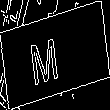M_N: (39, 25, 71, 85)
